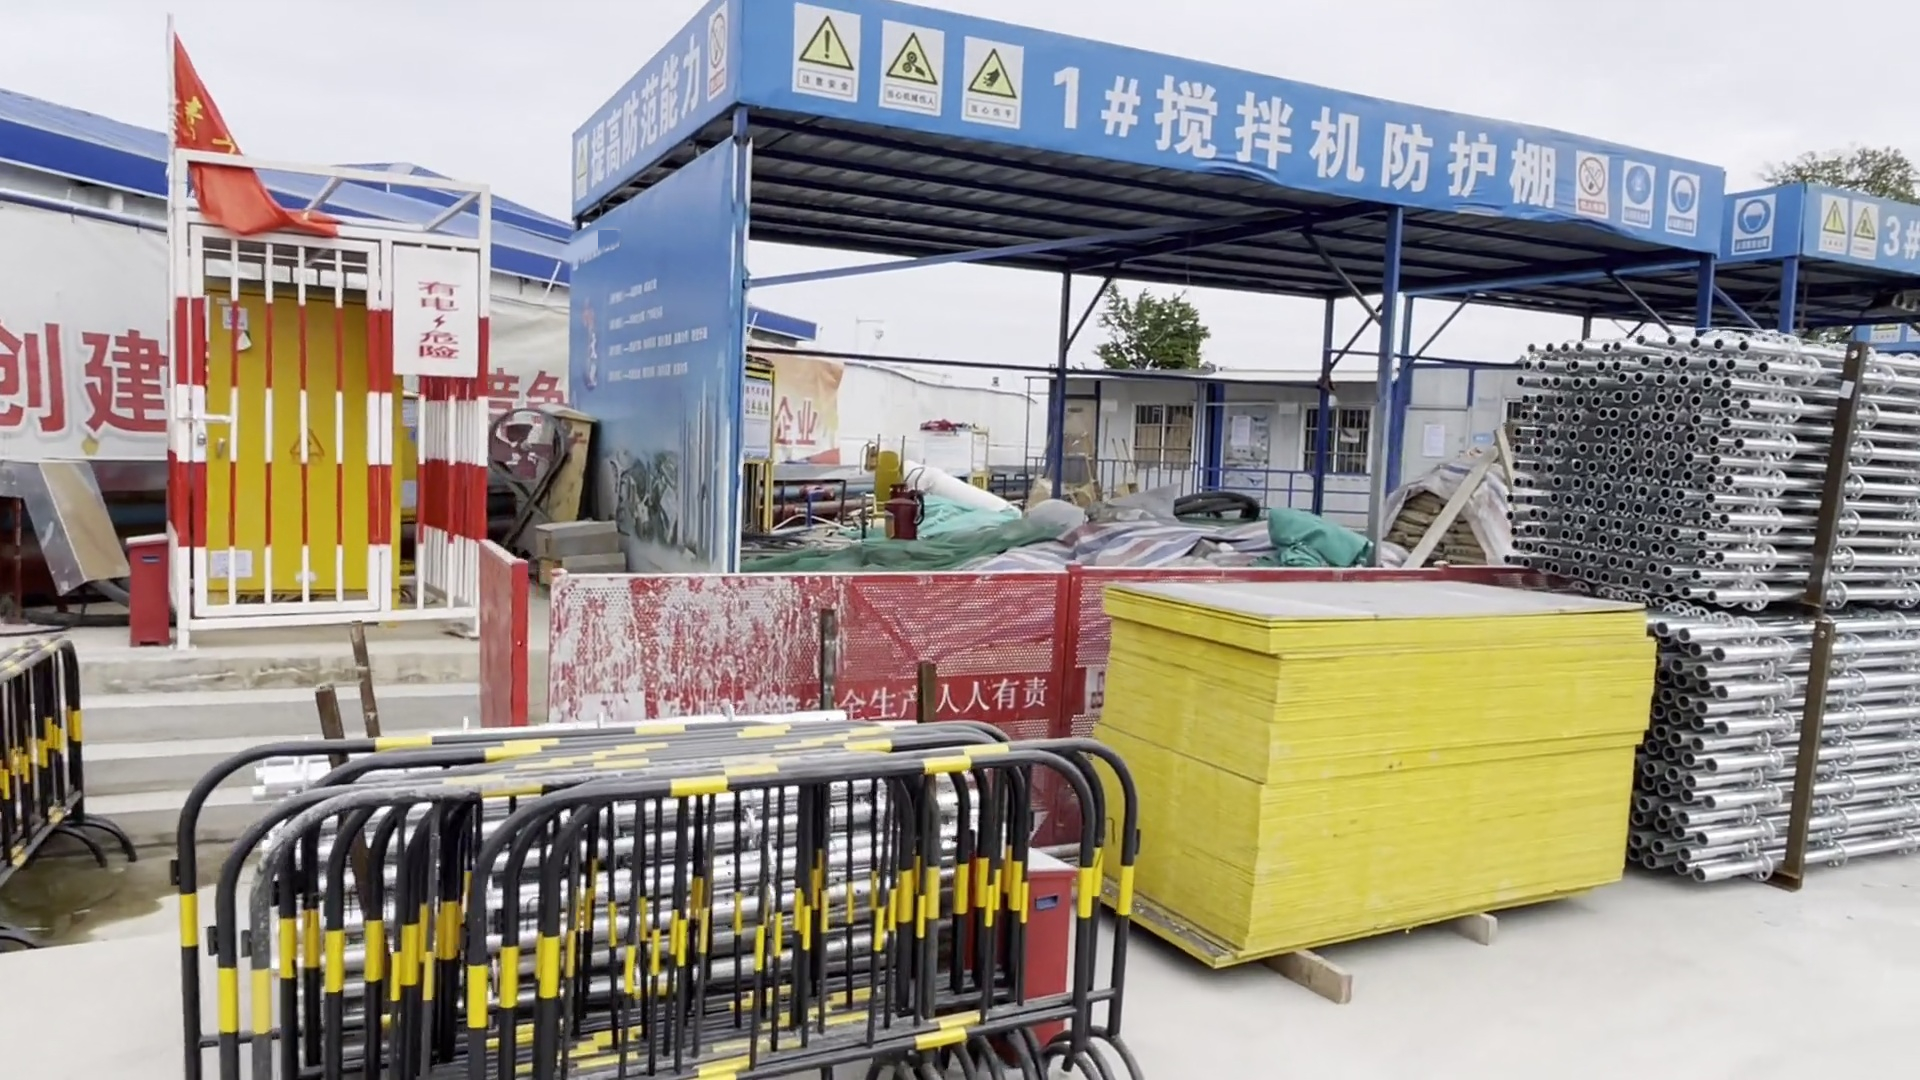board: (1092, 572, 1655, 945)
ebox: (208, 278, 425, 589)
fence: (248, 756, 1048, 1080), (560, 574, 1083, 752)
scaffold: (1501, 357, 1920, 860)
slogan: (556, 1, 735, 218), (760, 1, 1039, 128), (1557, 149, 1876, 257)
